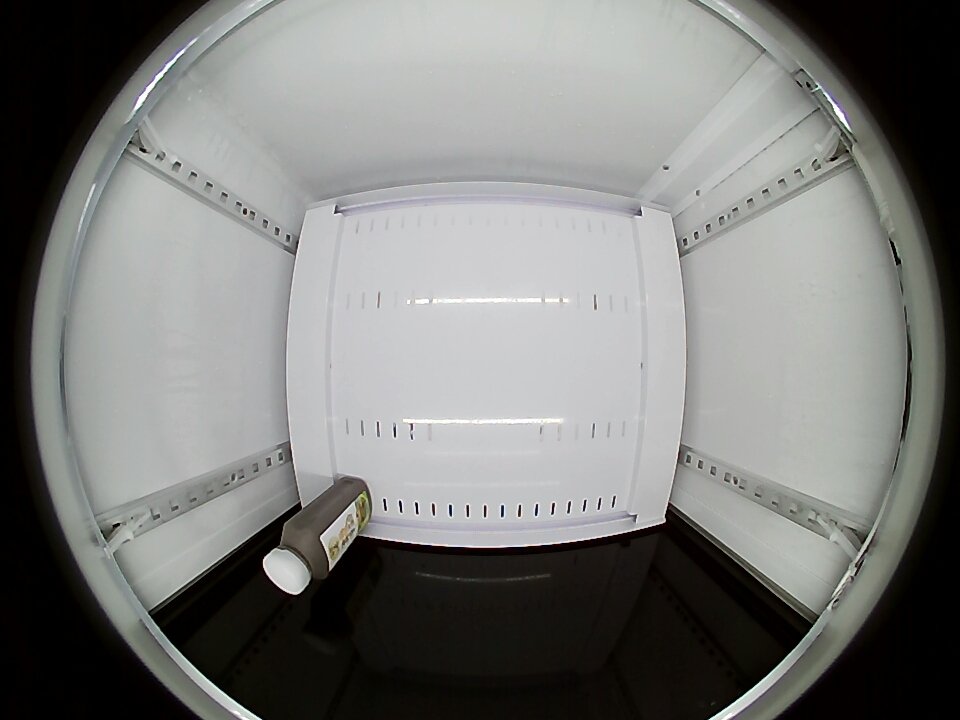youyanggudong: (262, 518, 335, 596)
